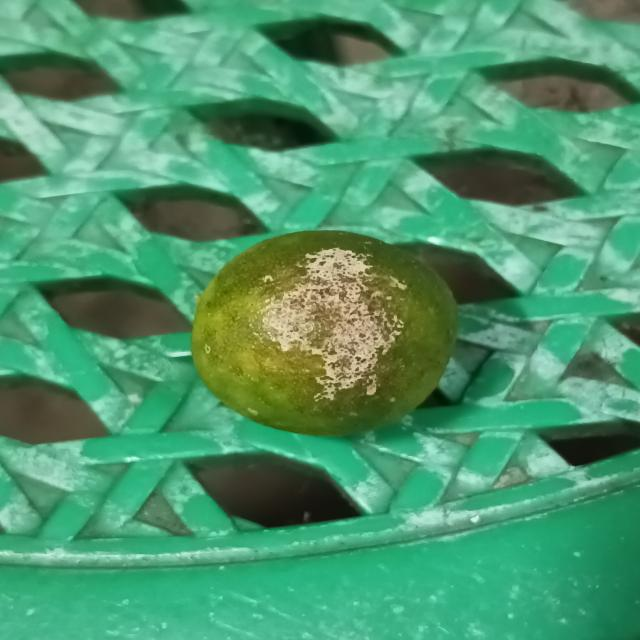thrips: (193, 226, 467, 439)
